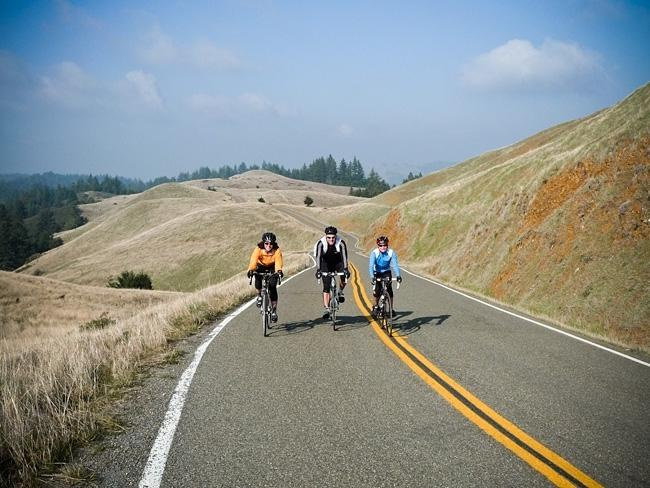non-vehicle: (249, 271, 281, 336), (317, 271, 347, 331), (371, 276, 400, 336)
